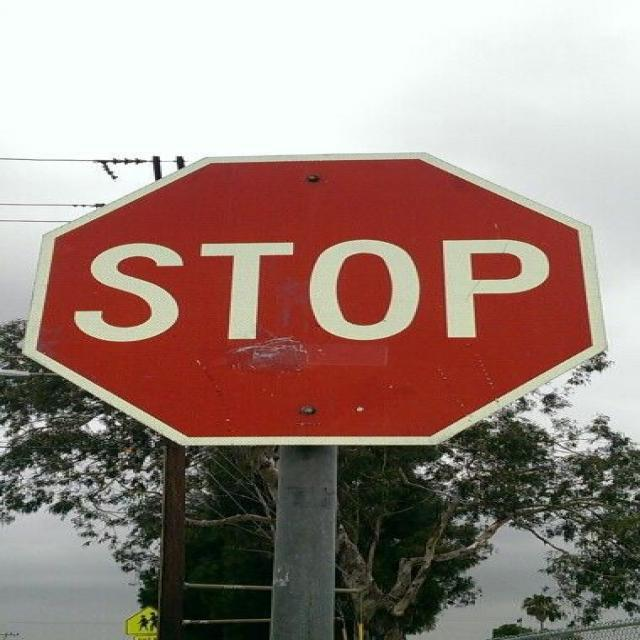stop: (19, 150, 609, 448)
